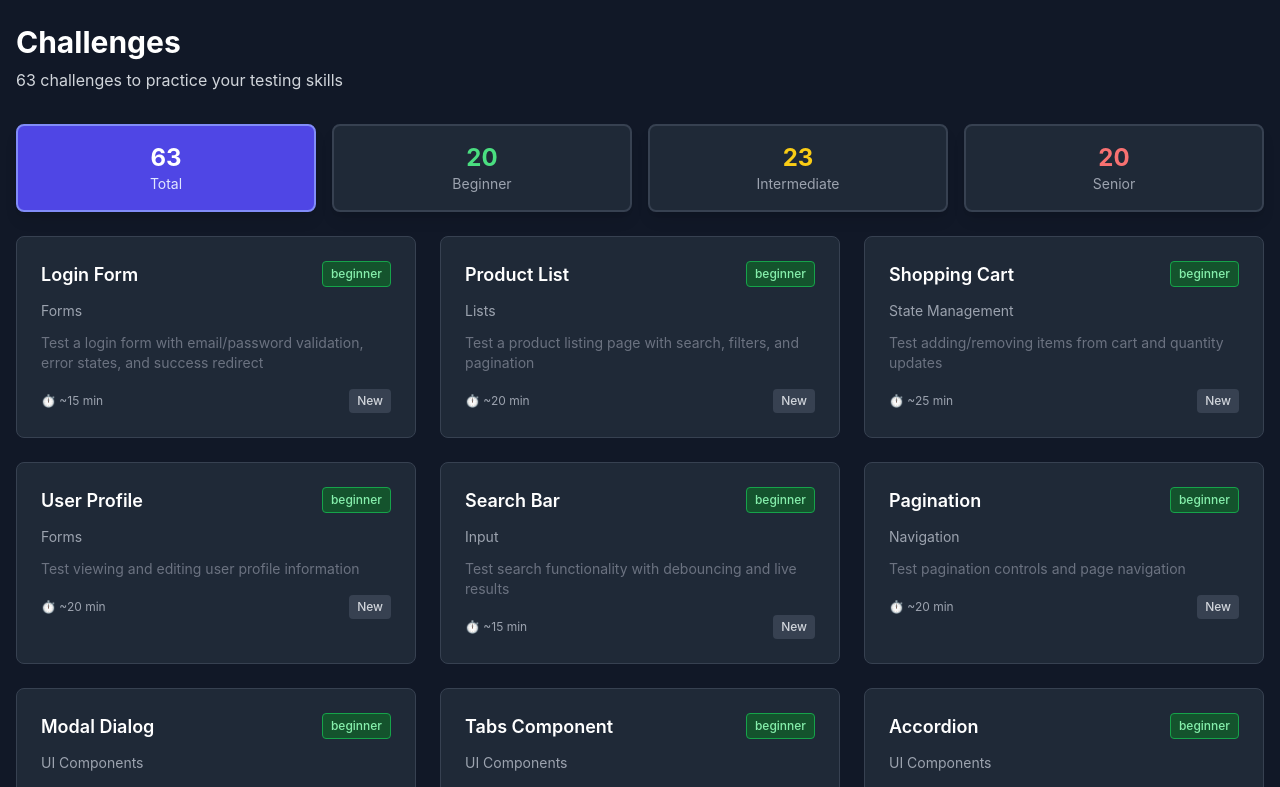
it: ChallengesPage › should filter to senior challenges when clicked
Click the button "20 Senior" at (1114, 168), box [964,124,1264,212]
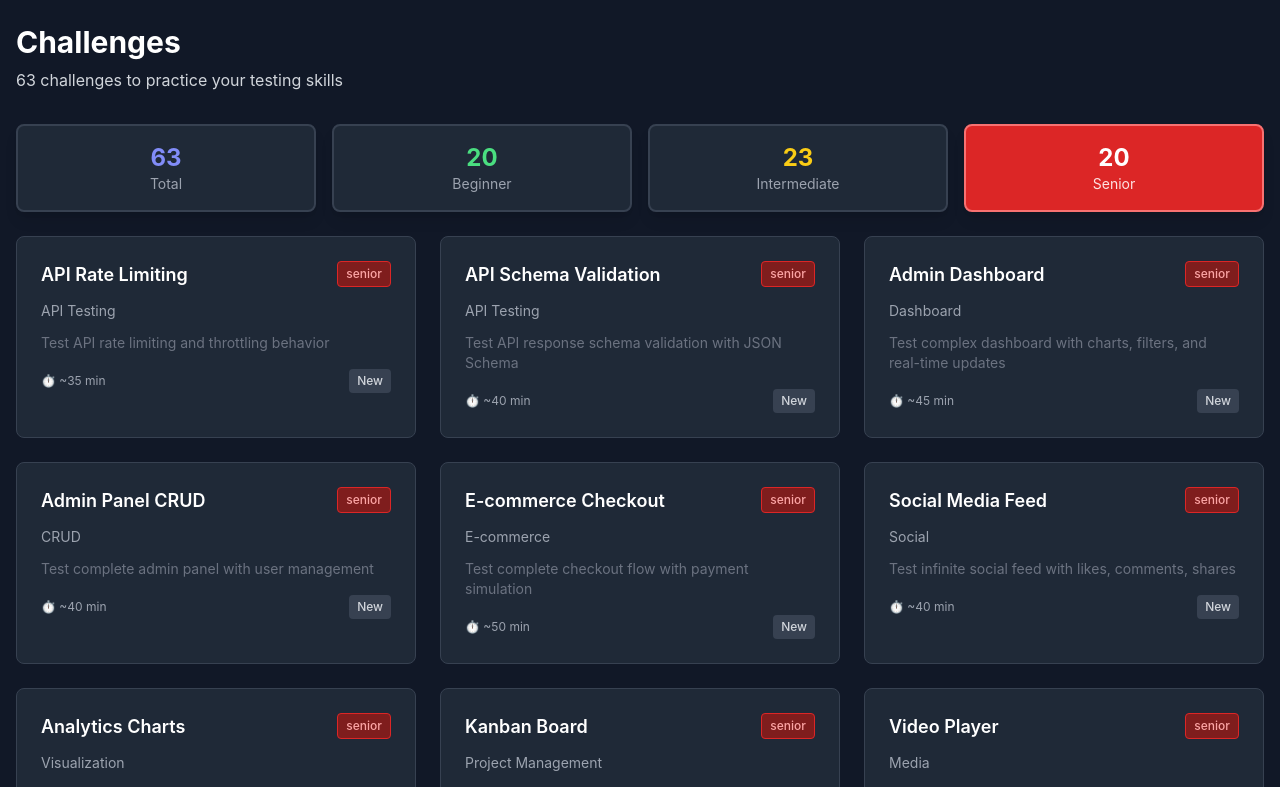
Check: the number of links is 20
